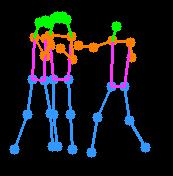normal: (83, 13, 158, 163), (9, 9, 83, 160)
